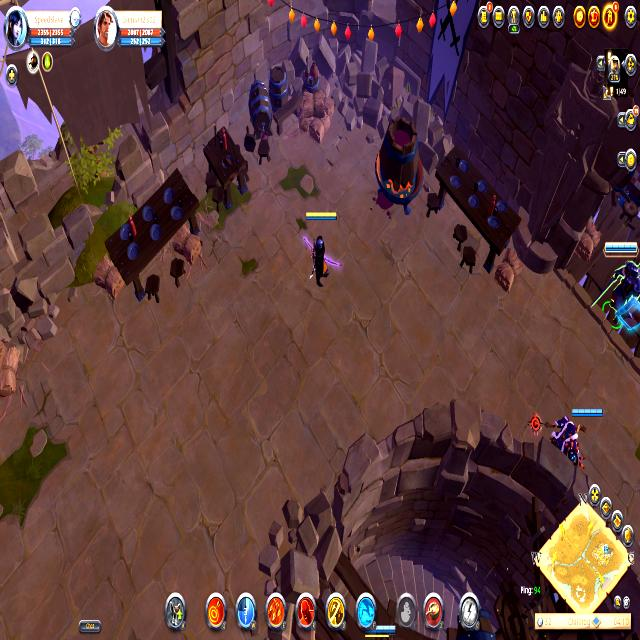red: (589, 239, 640, 335), (550, 400, 604, 468), (299, 207, 340, 291)
